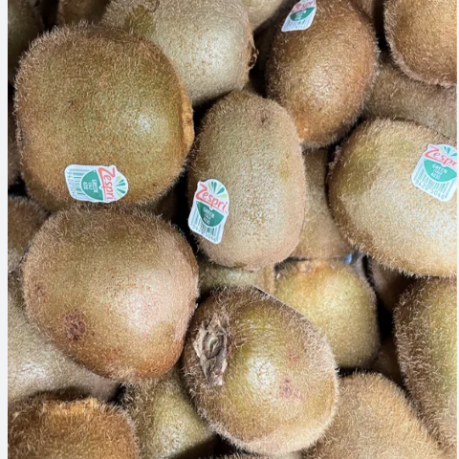kiwi: (11, 23, 209, 226), (19, 186, 217, 384), (150, 293, 365, 456), (181, 86, 326, 290), (328, 97, 459, 283)
